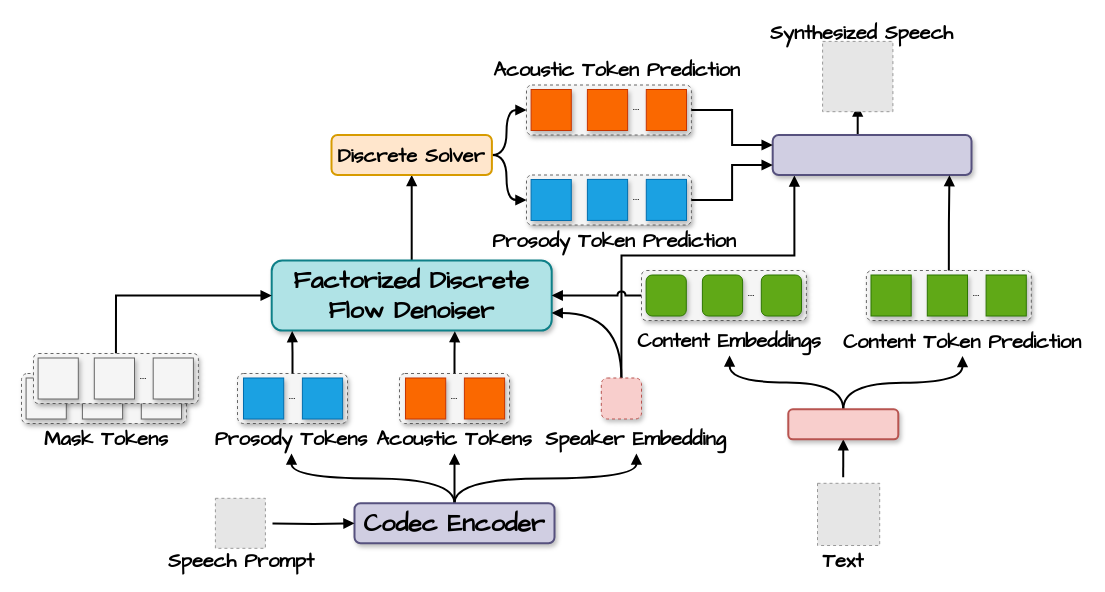
Image size: 1105x592. Some labels were removed from this diagram. Grey dashed boxes stand in for pictures. The centre of each missing label's shape, as x and y in pixels:
Codec Decoder: the point at 872,156
PCM: the point at 844,425
